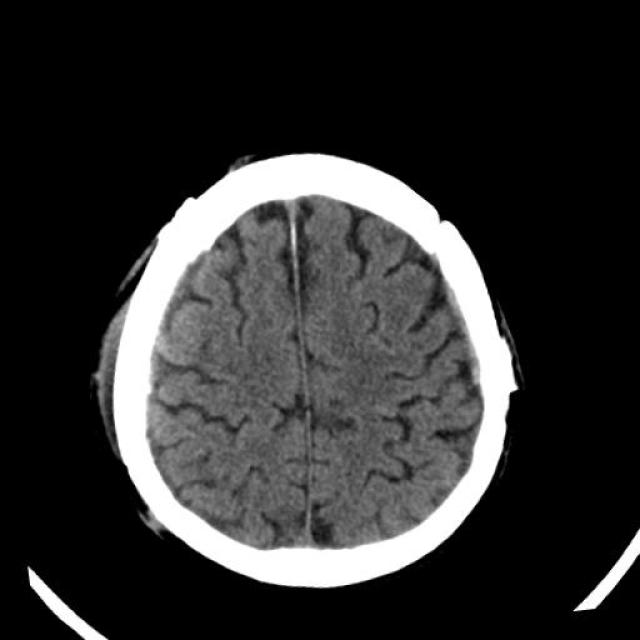Subdural: (436, 251, 525, 428)
